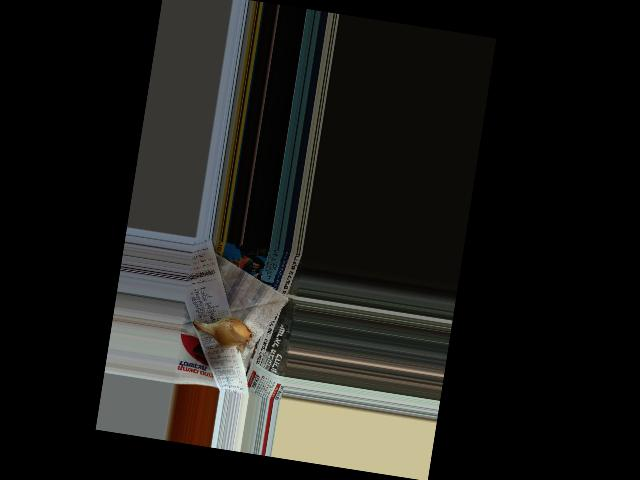onion: (207, 311, 254, 348)
